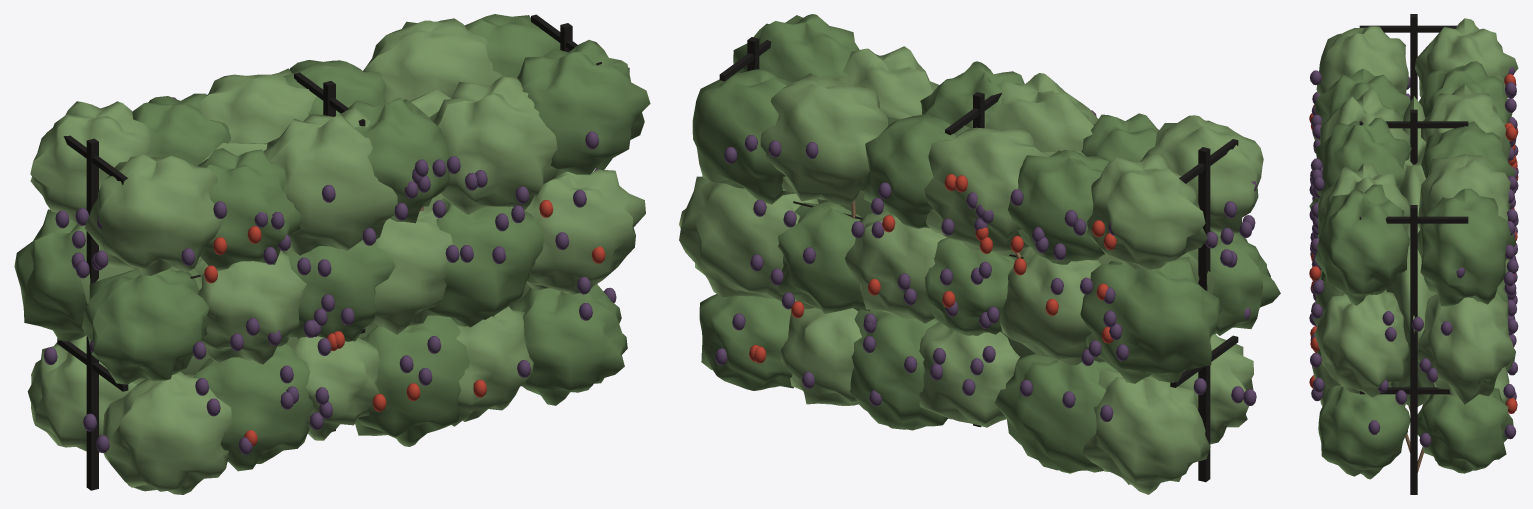
The model's file is szeder-fal.glb.
3 renders of one model, left to right at view 1: azimuth 30°, elevation 25°; view 2: azimuth 150°, elevation 25°; view 3: azimuth 270°, elevation 25°, orthographic. The views are drawn at different scales.
Parts seen in each view (by area): view 1: lomb-27, lomb-21, lomb-33, lomb-19, lomb-36, lomb-20, lomb-35, lomb-34, lomb-28, lomb-32, lomb-22, lomb-23 (+16 smaller); view 2: lomb-2, lomb-15, lomb-1, lomb-3, lomb-17, lomb-9, lomb-4, lomb-18, lomb-6, lomb-5, lomb-10, lomb-14 (+16 smaller); view 3: lomb-18, lomb-36, lomb-17, lomb-35, lomb-34, lomb-16, lomb-30, lomb-21, lomb-kozep, lomb-3, lomb-15, lomb-9 (+15 smaller).
Part boxes in pixels (left/top/right/bottom): lomb-27: left=263, top=108, right=397, bottom=255; lomb-21: left=85, top=154, right=223, bottom=275; lomb-33: left=429, top=77, right=557, bottom=214; lomb-19: left=103, top=371, right=231, bottom=494; lomb-36: left=517, top=40, right=650, bottom=176; lomb-20: left=81, top=268, right=209, bottom=384; lomb-35: left=525, top=169, right=645, bottom=294; lomb-34: left=511, top=284, right=627, bottom=405; lomb-28: left=355, top=315, right=469, bottom=446; lomb-32: left=427, top=198, right=544, bottom=327; lomb-22: left=193, top=343, right=312, bottom=471; lomb-23: left=188, top=250, right=306, bottom=364; lomb-2: left=1080, top=257, right=1221, bottom=383; lomb-15: left=760, top=73, right=887, bottom=206; lomb-1: left=1082, top=369, right=1210, bottom=494; lomb-3: left=1086, top=153, right=1207, bottom=269; lomb-17: left=679, top=176, right=818, bottom=301; lomb-9: left=924, top=125, right=1045, bottom=256; lomb-4: left=994, top=354, right=1117, bottom=473; lomb-18: left=692, top=69, right=795, bottom=204; lomb-6: left=1008, top=150, right=1110, bottom=264; lomb-5: left=999, top=247, right=1101, bottom=365; lomb-10: left=849, top=309, right=947, bottom=430; lomb-14: left=777, top=201, right=870, bottom=313; lomb-18: left=1417, top=188, right=1516, bottom=307; lomb-36: left=1315, top=184, right=1409, bottom=305; lomb-17: left=1417, top=294, right=1515, bottom=404; lomb-35: left=1314, top=291, right=1408, bottom=397; lomb-34: left=1318, top=384, right=1410, bottom=479; lomb-16: left=1417, top=388, right=1513, bottom=473; lomb-30: left=1315, top=117, right=1411, bottom=196; lomb-21: left=1316, top=26, right=1408, bottom=95; lomb-kozep: left=1386, top=96, right=1436, bottom=406; lomb-3: left=1415, top=18, right=1518, bottom=97; lomb-15: left=1418, top=154, right=1510, bottom=228; lomb-9: left=1421, top=84, right=1510, bottom=161.
Bounding box in the file's own units: 3.55 × 2.14 × 1.39.
